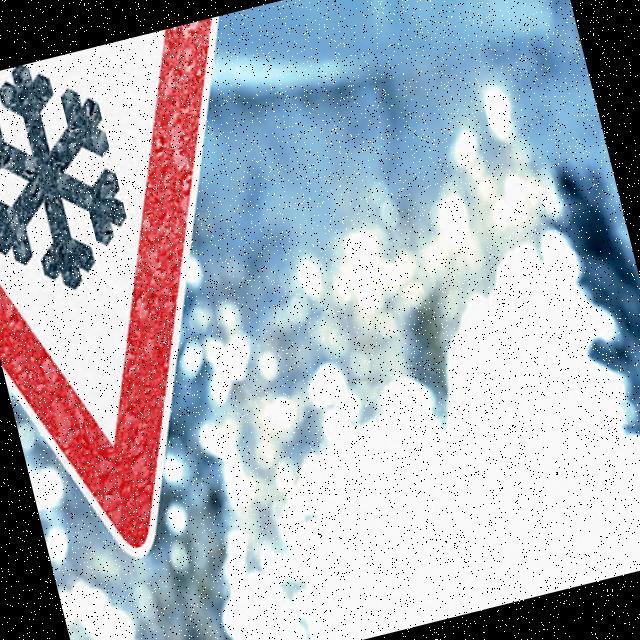snow_warning: (0, 10, 373, 601)
